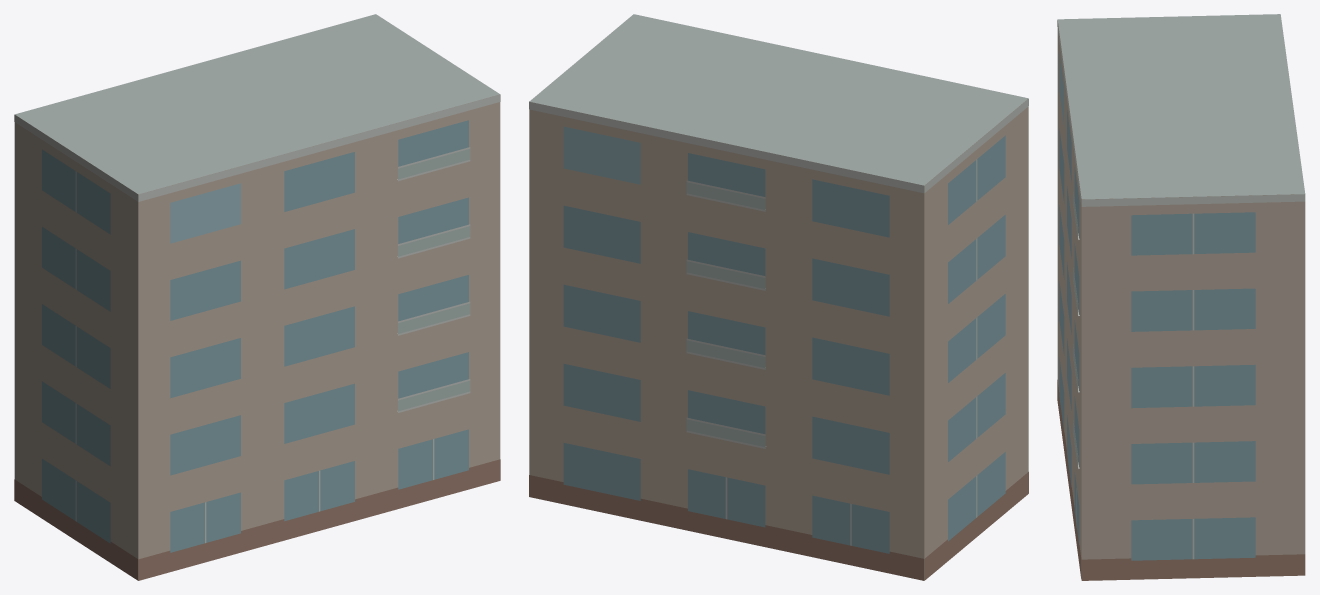
Rendered from survey-upis-32610090.glb.
3 renders of one model, left to right at view 1: azimuth 30°, elevation 25°; view 2: azimuth 150°, elevation 25°; view 3: azimuth 270°, elevation 25°, orthographic. The views are drawn at different scales.
Parts seen in each view (by area): view 1: survey-upis-32610090.tmp; view 2: survey-upis-32610090.tmp; view 3: survey-upis-32610090.tmp.
Part boxes in pixels (x1,y1,x2,y2): survey-upis-32610090.tmp: (14,14,500,580); survey-upis-32610090.tmp: (529,14,1028,580); survey-upis-32610090.tmp: (1057,14,1305,580).
Size of the model in its own units: 12.99 by 12.45 by 7.34.
